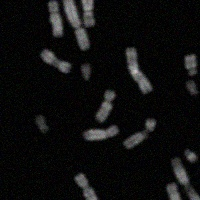chromosome: (62, 0, 89, 50), (171, 158, 200, 200), (126, 48, 152, 94), (123, 119, 156, 149), (73, 172, 100, 200), (41, 49, 71, 73), (95, 89, 114, 122), (48, 0, 63, 37), (84, 126, 118, 141), (81, 0, 95, 27), (165, 183, 186, 200), (185, 53, 196, 76), (36, 115, 48, 132), (184, 80, 197, 95), (185, 148, 197, 163), (82, 65, 90, 81)
